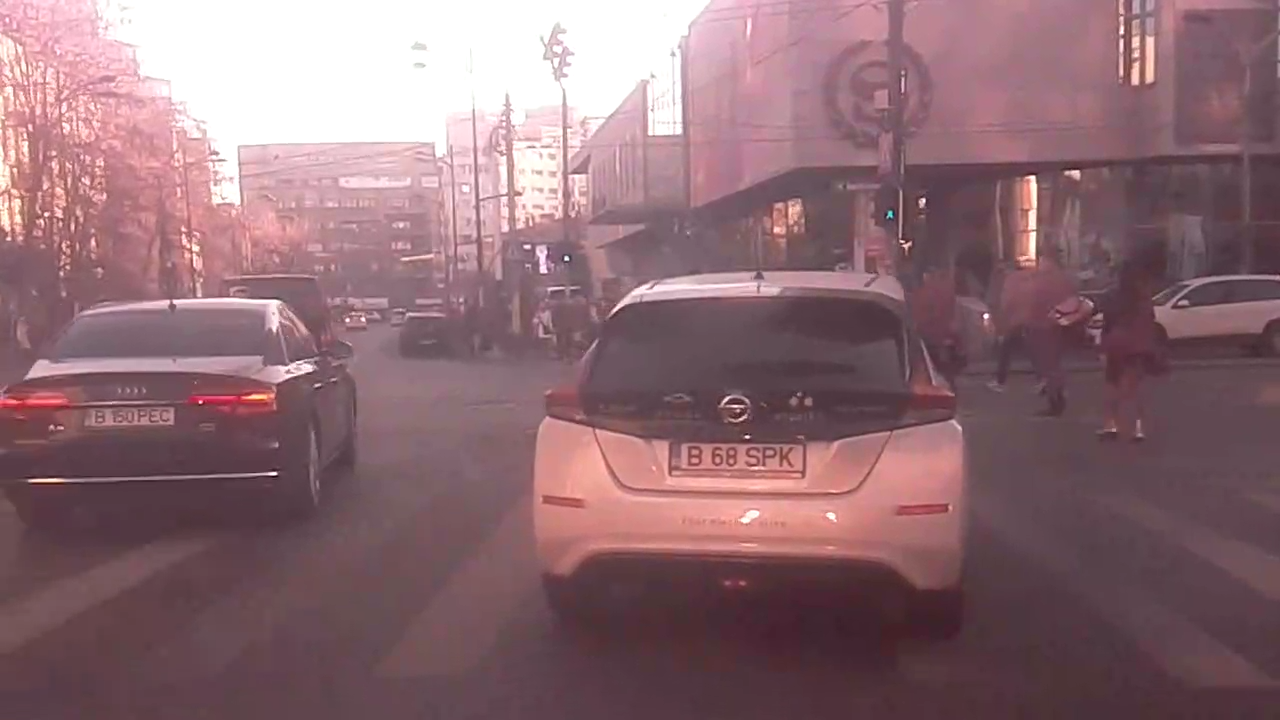license-plate: (662, 436, 810, 482), (80, 402, 178, 430)
